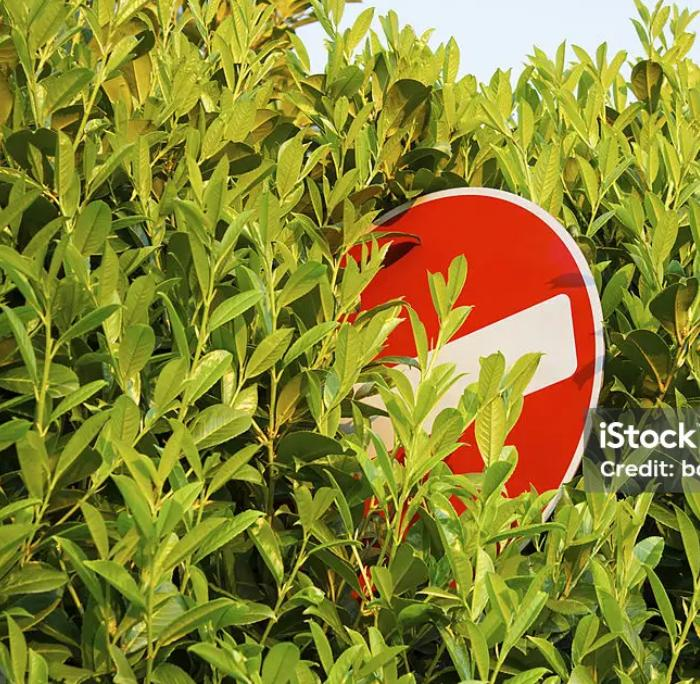obstructed_road_sign: (301, 186, 604, 593)
